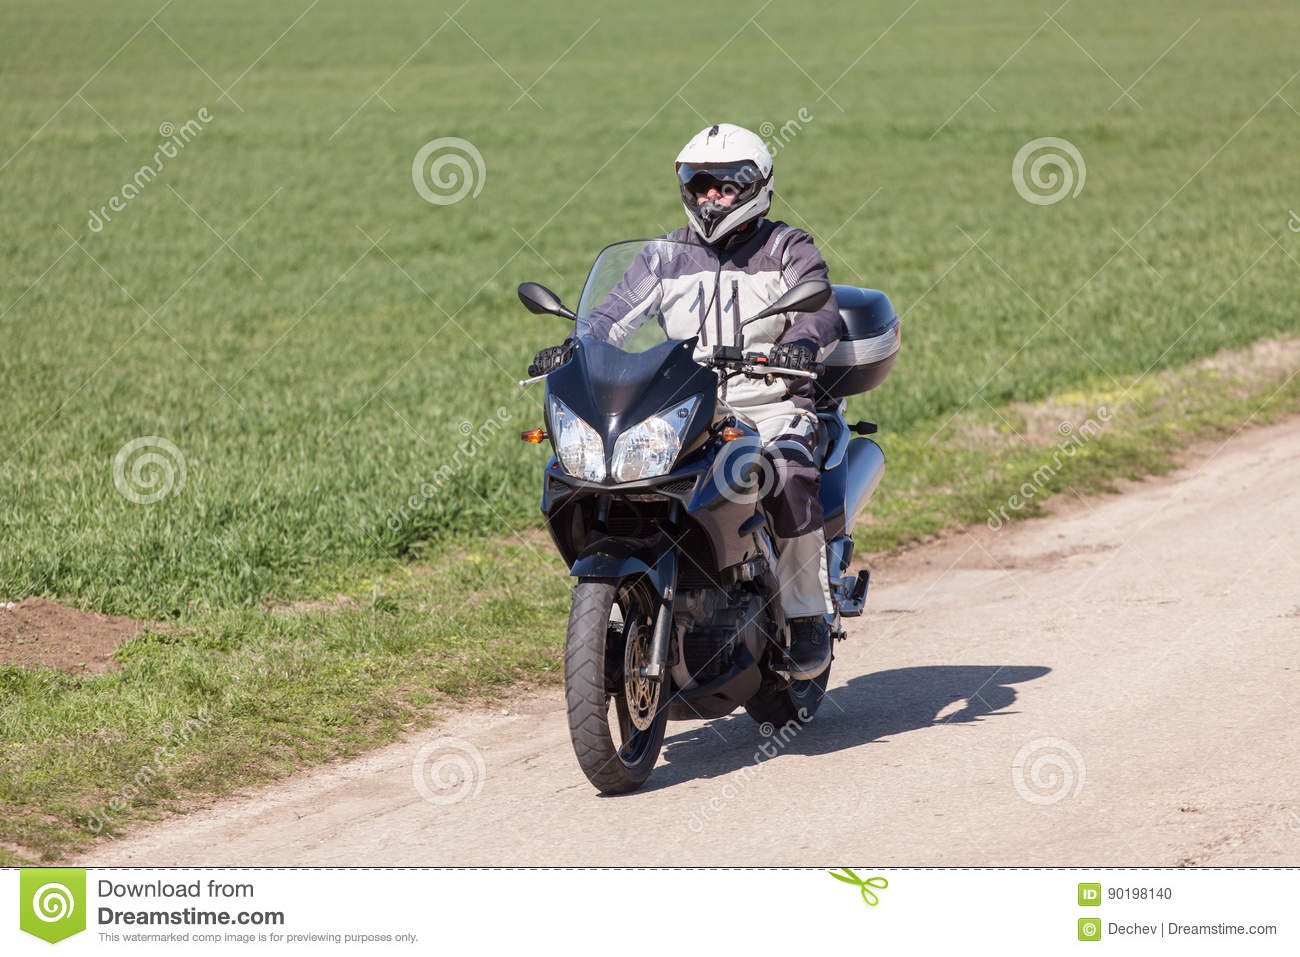helmet: (670, 113, 787, 241)
